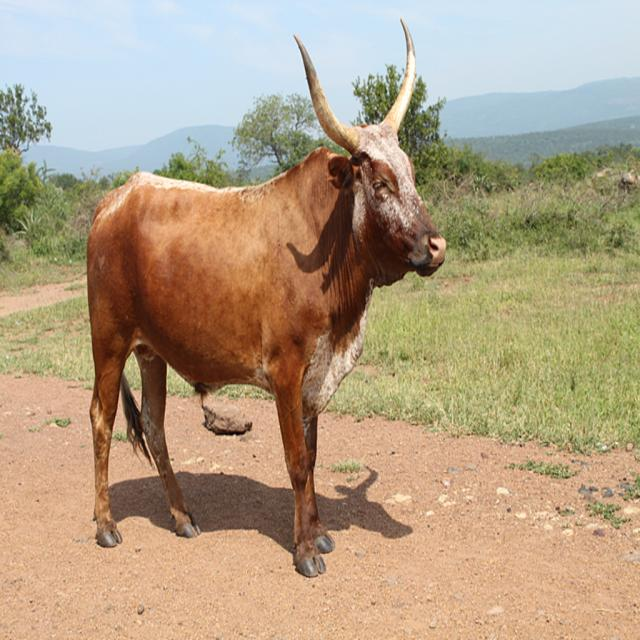Deer: (82, 11, 450, 579)
